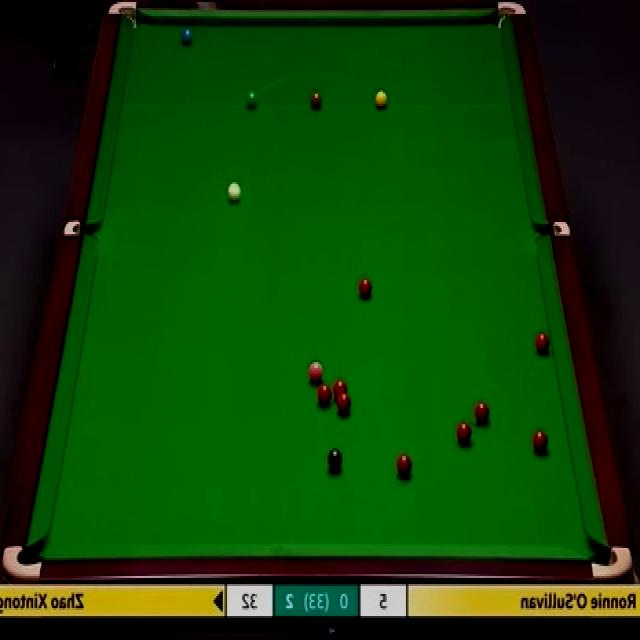black-ball: (326, 448, 342, 471)
blue-ball: (182, 27, 192, 48)
brown-ball: (310, 92, 323, 109)
green-ball: (244, 88, 258, 112)
pink-ball: (308, 364, 325, 380)
red-ball: (396, 453, 414, 477), (335, 390, 353, 414), (332, 378, 350, 402), (532, 430, 548, 456), (479, 401, 495, 427), (455, 423, 472, 447), (316, 384, 332, 406), (535, 330, 550, 352), (358, 278, 374, 297)
white-ball: (228, 180, 242, 204)
yellow-ball: (374, 89, 388, 110)
